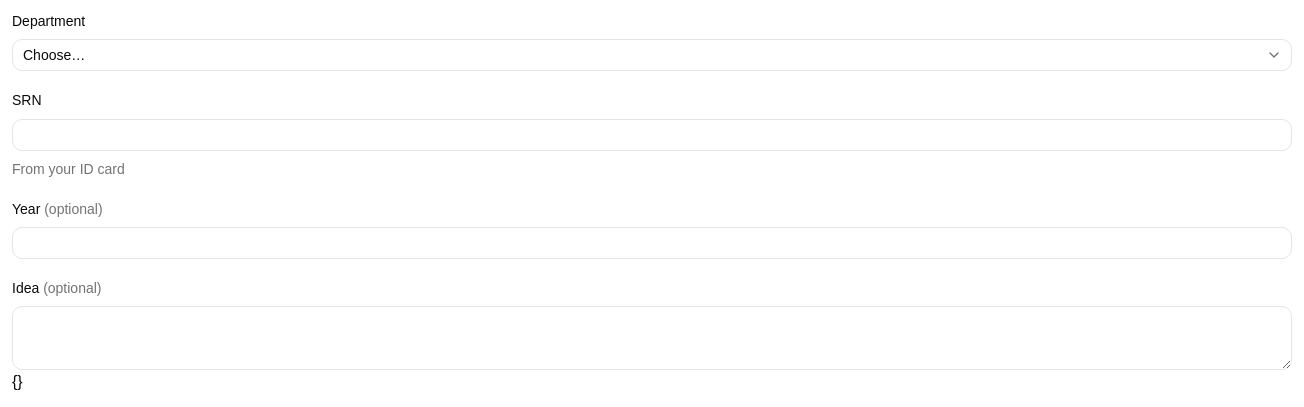
FieldInputs › renders each type and collects values
Select "CSE" in the dropdown labelled "Department". click: (652, 55)
box: [12,39,1292,71]
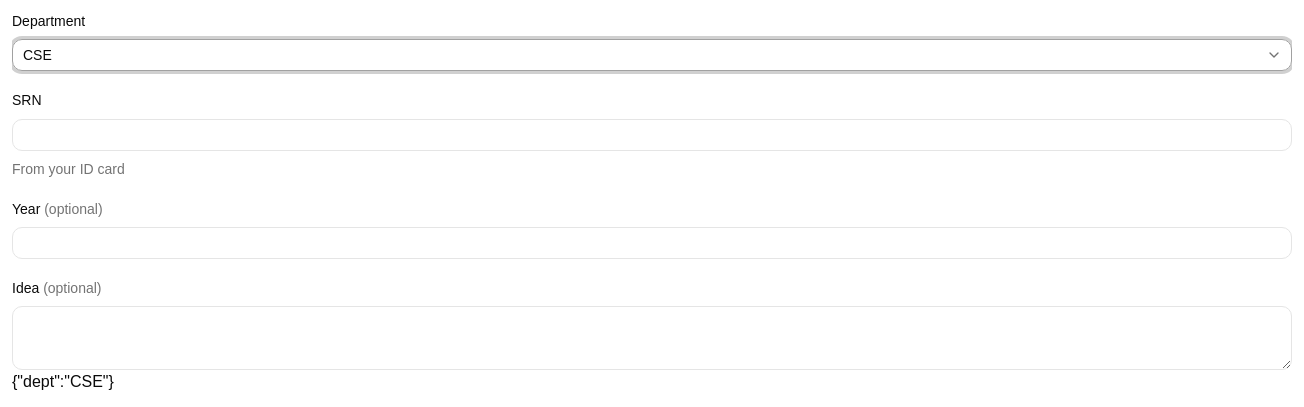
Type "PES1" into the field labelled "SRN". click: (652, 134)
box: [12,118,1292,150]
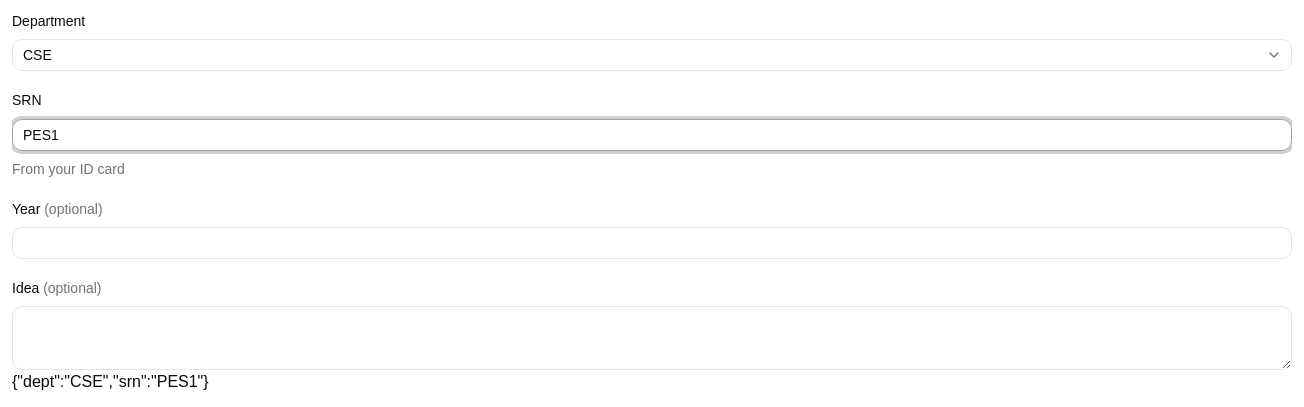
Type "Queue app" into the text box labelled "Idea (optional)". click: (652, 338)
box: [12,306,1292,370]
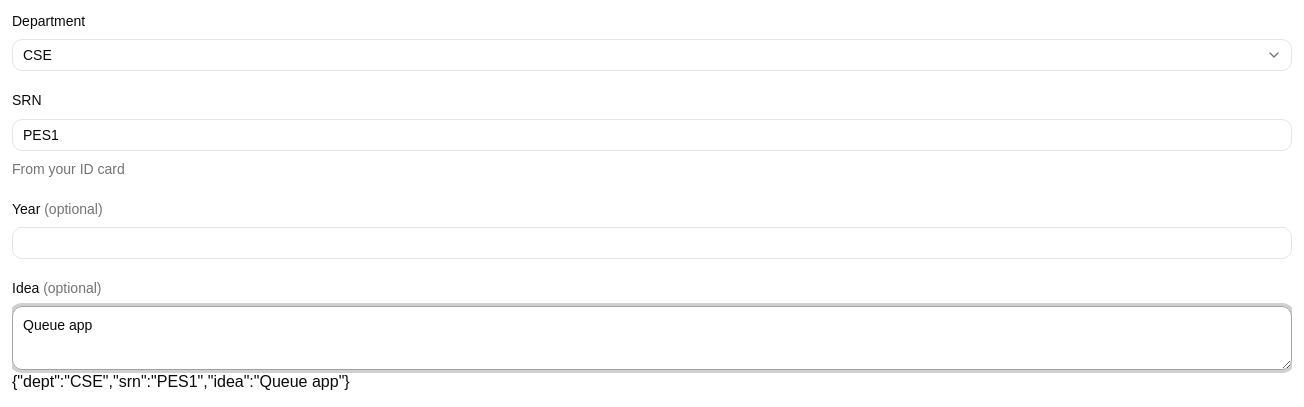
Expected: the text "(optional)" is shown 2 times, [40,200,103,216]; [39,280,102,296]
Now the text "{\"dept\":\"CSE\",\"srn\":\"PES1\",\"idea\":\"Queue app\"}" is shown, box [12,373,350,390]
